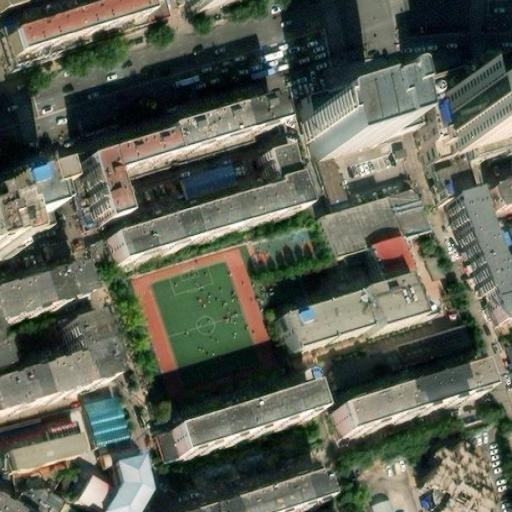building: (101, 167, 308, 262), (327, 371, 480, 444), (166, 383, 314, 451), (81, 128, 171, 217), (443, 166, 512, 281), (320, 175, 434, 243), (163, 89, 283, 152), (0, 417, 95, 478), (296, 90, 377, 149), (280, 293, 366, 348), (432, 98, 509, 159), (0, 364, 80, 422), (0, 270, 80, 328), (56, 315, 109, 386), (73, 466, 151, 512), (78, 388, 132, 450), (357, 280, 413, 334), (176, 159, 237, 201), (372, 236, 415, 285), (365, 81, 412, 125), (258, 131, 298, 177), (474, 269, 512, 313), (0, 489, 38, 512), (493, 80, 512, 114), (368, 497, 395, 512)
